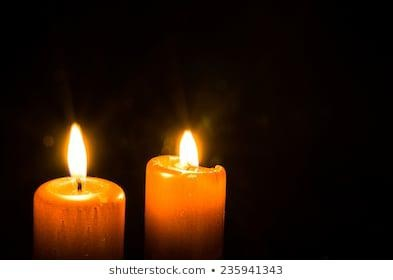fire: (63, 120, 88, 182), (177, 127, 200, 172)
